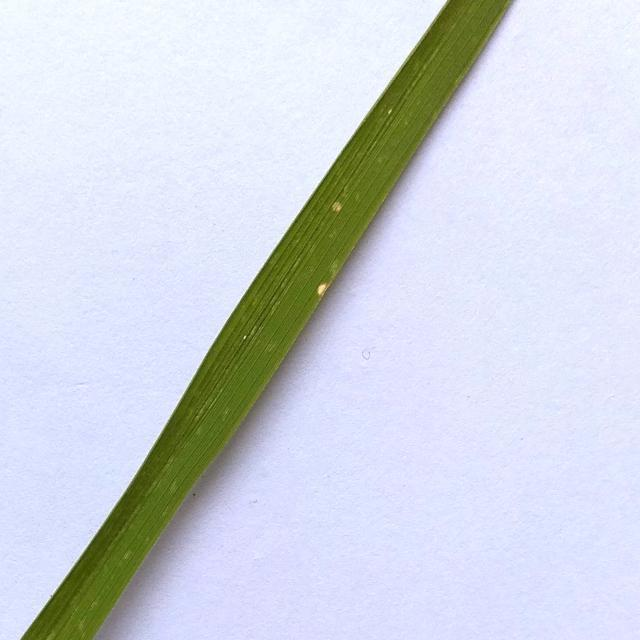Blast: (329, 197, 352, 220), (310, 280, 332, 296)
